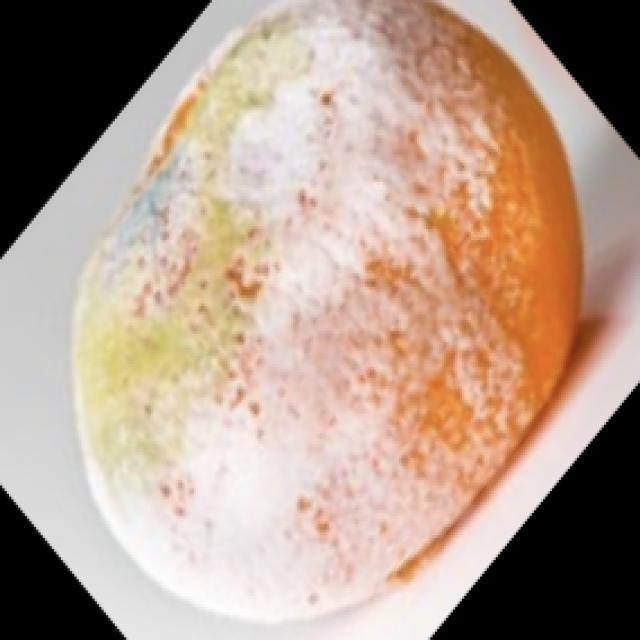sangat-busuk: (75, 0, 581, 614)
